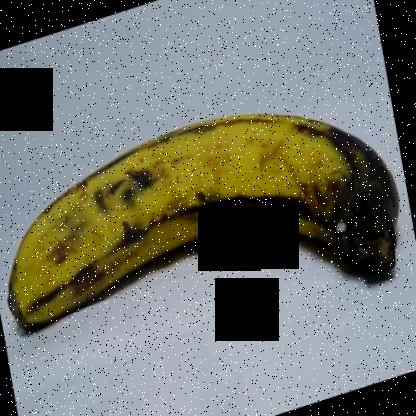overripe: (1, 85, 407, 348)
rotten: (261, 113, 414, 279)
